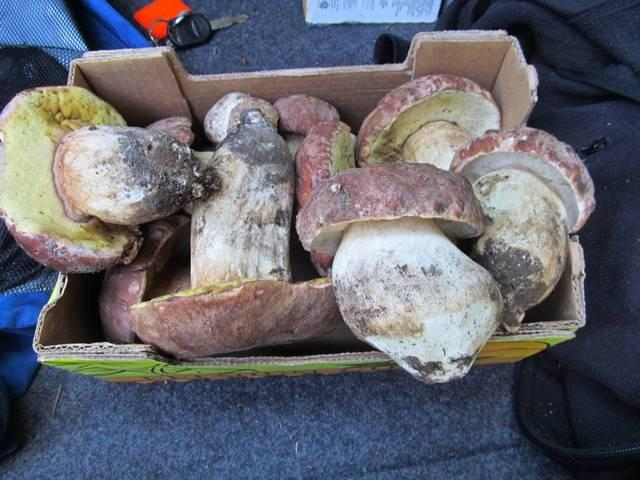Edible Mushroom: (0, 71, 596, 384), (295, 160, 504, 384)
